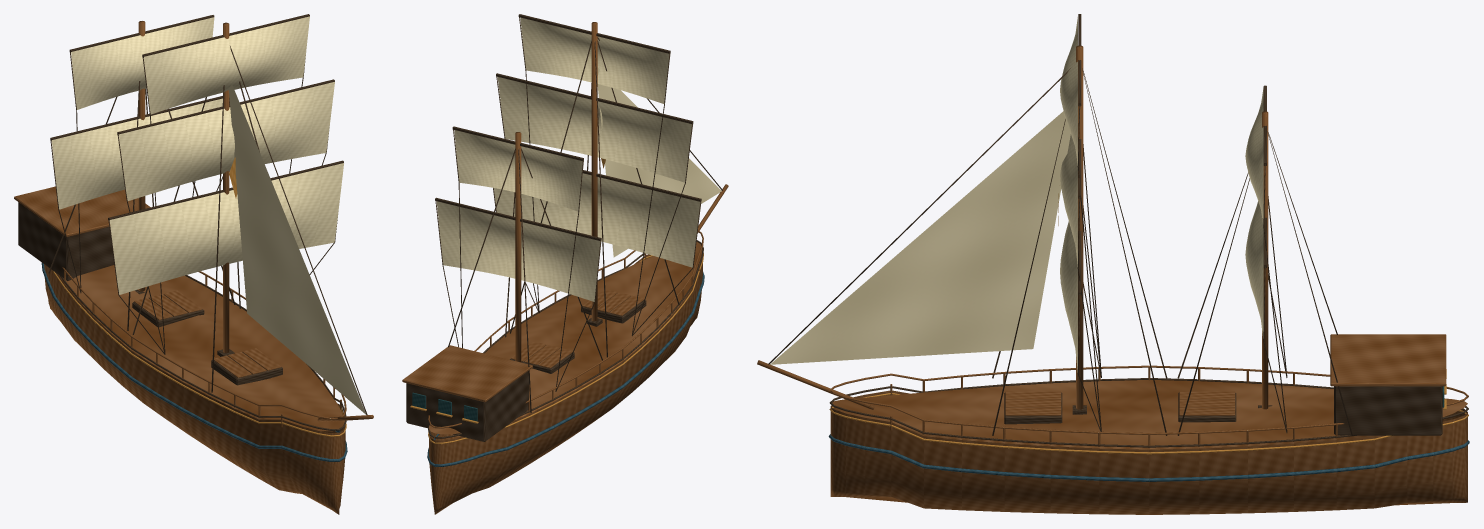
File: merchant_ship_large.glb
3 renders of one model, left to right at view 1: azimuth 30°, elevation 25°; view 2: azimuth 150°, elevation 25°; view 3: azimuth 270°, elevation 25°, orthographic. The views are drawn at different scales.
Parts seen in each view (by area): view 1: merchant_ship_large_Sails, merchant_ship_large_Deck, merchant_ship_large_Hull, merchant_ship_large_Rigging, merchant_ship_large_Cabin, merchant_ship_large_Metalwork; view 2: merchant_ship_large_Sails, merchant_ship_large_Deck, merchant_ship_large_Hull, merchant_ship_large_Rigging, merchant_ship_large_Cabin, merchant_ship_large_Metalwork, merchant_ship_large_Glazing; view 3: merchant_ship_large_Hull, merchant_ship_large_Sails, merchant_ship_large_Deck, merchant_ship_large_Cabin, merchant_ship_large_Rigging, merchant_ship_large_Metalwork.
Boxes of the visible parts, x1,y1,x2,y2 form: merchant_ship_large_Sails: (51,16,366,414); merchant_ship_large_Deck: (62,265,346,431); merchant_ship_large_Hull: (41,262,347,514); merchant_ship_large_Rigging: (48,14,373,421); merchant_ship_large_Cabin: (14,186,150,280); merchant_ship_large_Metalwork: (53,157,346,436); merchant_ship_large_Sails: (436,17,721,301); merchant_ship_large_Deck: (428,230,703,434); merchant_ship_large_Hull: (427,240,704,514); merchant_ship_large_Rigging: (435,14,728,412); merchant_ship_large_Cabin: (402,345,532,441); merchant_ship_large_Metalwork: (410,158,703,444); merchant_ship_large_Glazing: (412,392,477,421); merchant_ship_large_Hull: (828,378,1469,514); merchant_ship_large_Sails: (770,17,1263,372); merchant_ship_large_Deck: (830,365,1468,448); merchant_ship_large_Cabin: (1330,334,1446,435); merchant_ship_large_Rigging: (757,14,1352,435); merchant_ship_large_Metalwork: (829,193,1468,454).
Size of the model in its own units: 20.66 by 35 by 49.18.
Materials: 3 (3 with a texture image).
